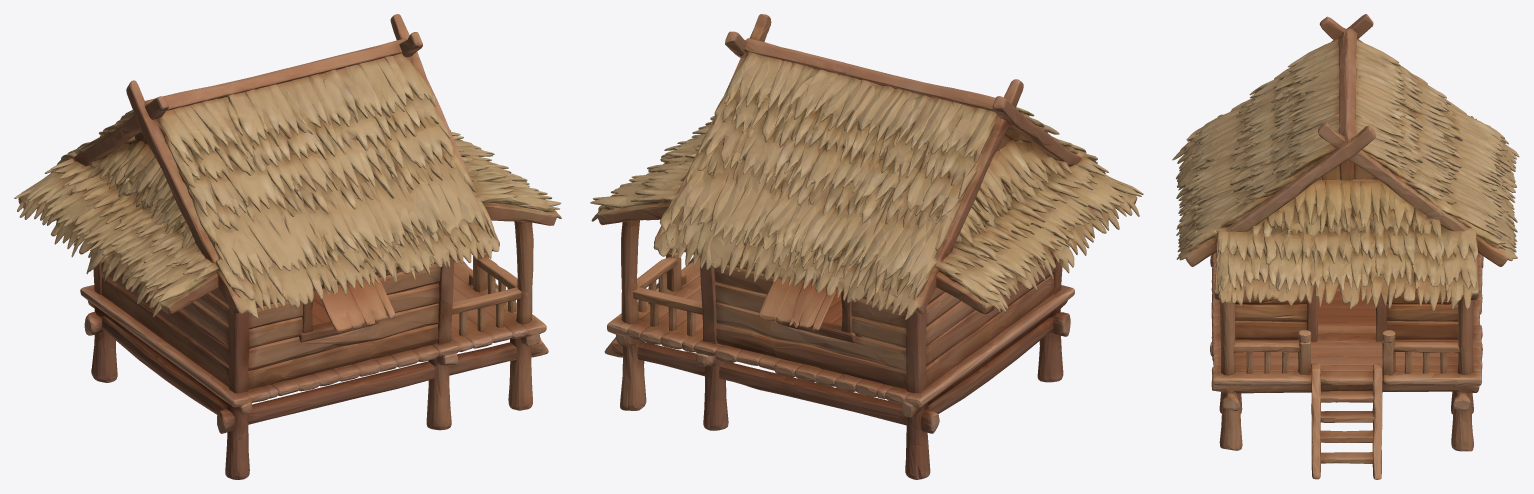
Rendered from phunam8.glb.
The picture shows the model from 3 angles, left to right: view 1: azimuth 30°, elevation 25°; view 2: azimuth 150°, elevation 25°; view 3: azimuth 270°, elevation 25°; orthographic projection. The views are drawn at different scales.
Parts seen in each view (by area): view 1: tripo_node_443d84c8-ae50-45e0-be6f-06cd3a656787; view 2: tripo_node_443d84c8-ae50-45e0-be6f-06cd3a656787; view 3: tripo_node_443d84c8-ae50-45e0-be6f-06cd3a656787.
Part boxes in pixels (bbox=[...]): tripo_node_443d84c8-ae50-45e0-be6f-06cd3a656787: bbox=[14, 14, 561, 479]; tripo_node_443d84c8-ae50-45e0-be6f-06cd3a656787: bbox=[590, 14, 1143, 479]; tripo_node_443d84c8-ae50-45e0-be6f-06cd3a656787: bbox=[1172, 14, 1519, 479].
Bounding box in the file's own units: 0.9996 × 0.7407 × 0.7691.
Materials: 1 (1 with a texture image).
